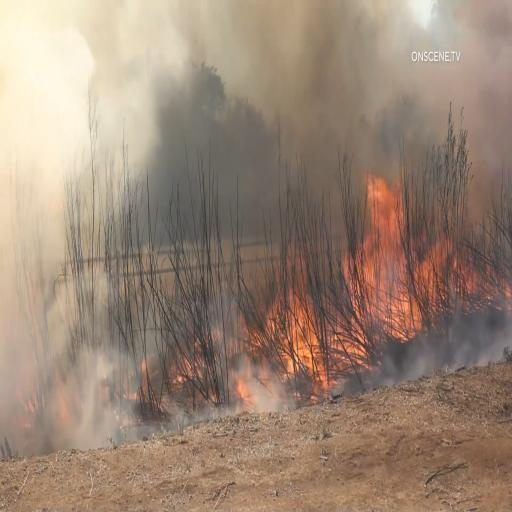fire: (349, 179, 426, 371), (248, 330, 356, 432)
smoke: (102, 10, 276, 140), (288, 14, 410, 162), (479, 2, 512, 240), (81, 374, 145, 452)
